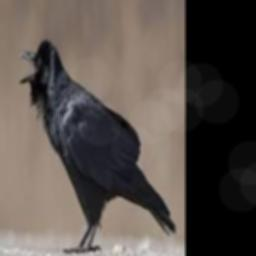Crow: (18, 38, 175, 253)
